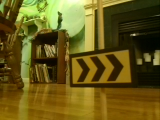right: (70, 48, 134, 85)
